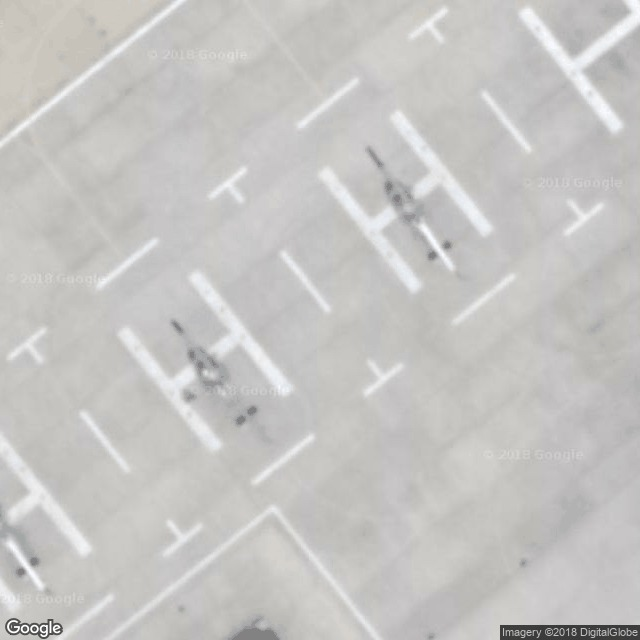heliport: (282, 119, 501, 317), (101, 273, 303, 460)
